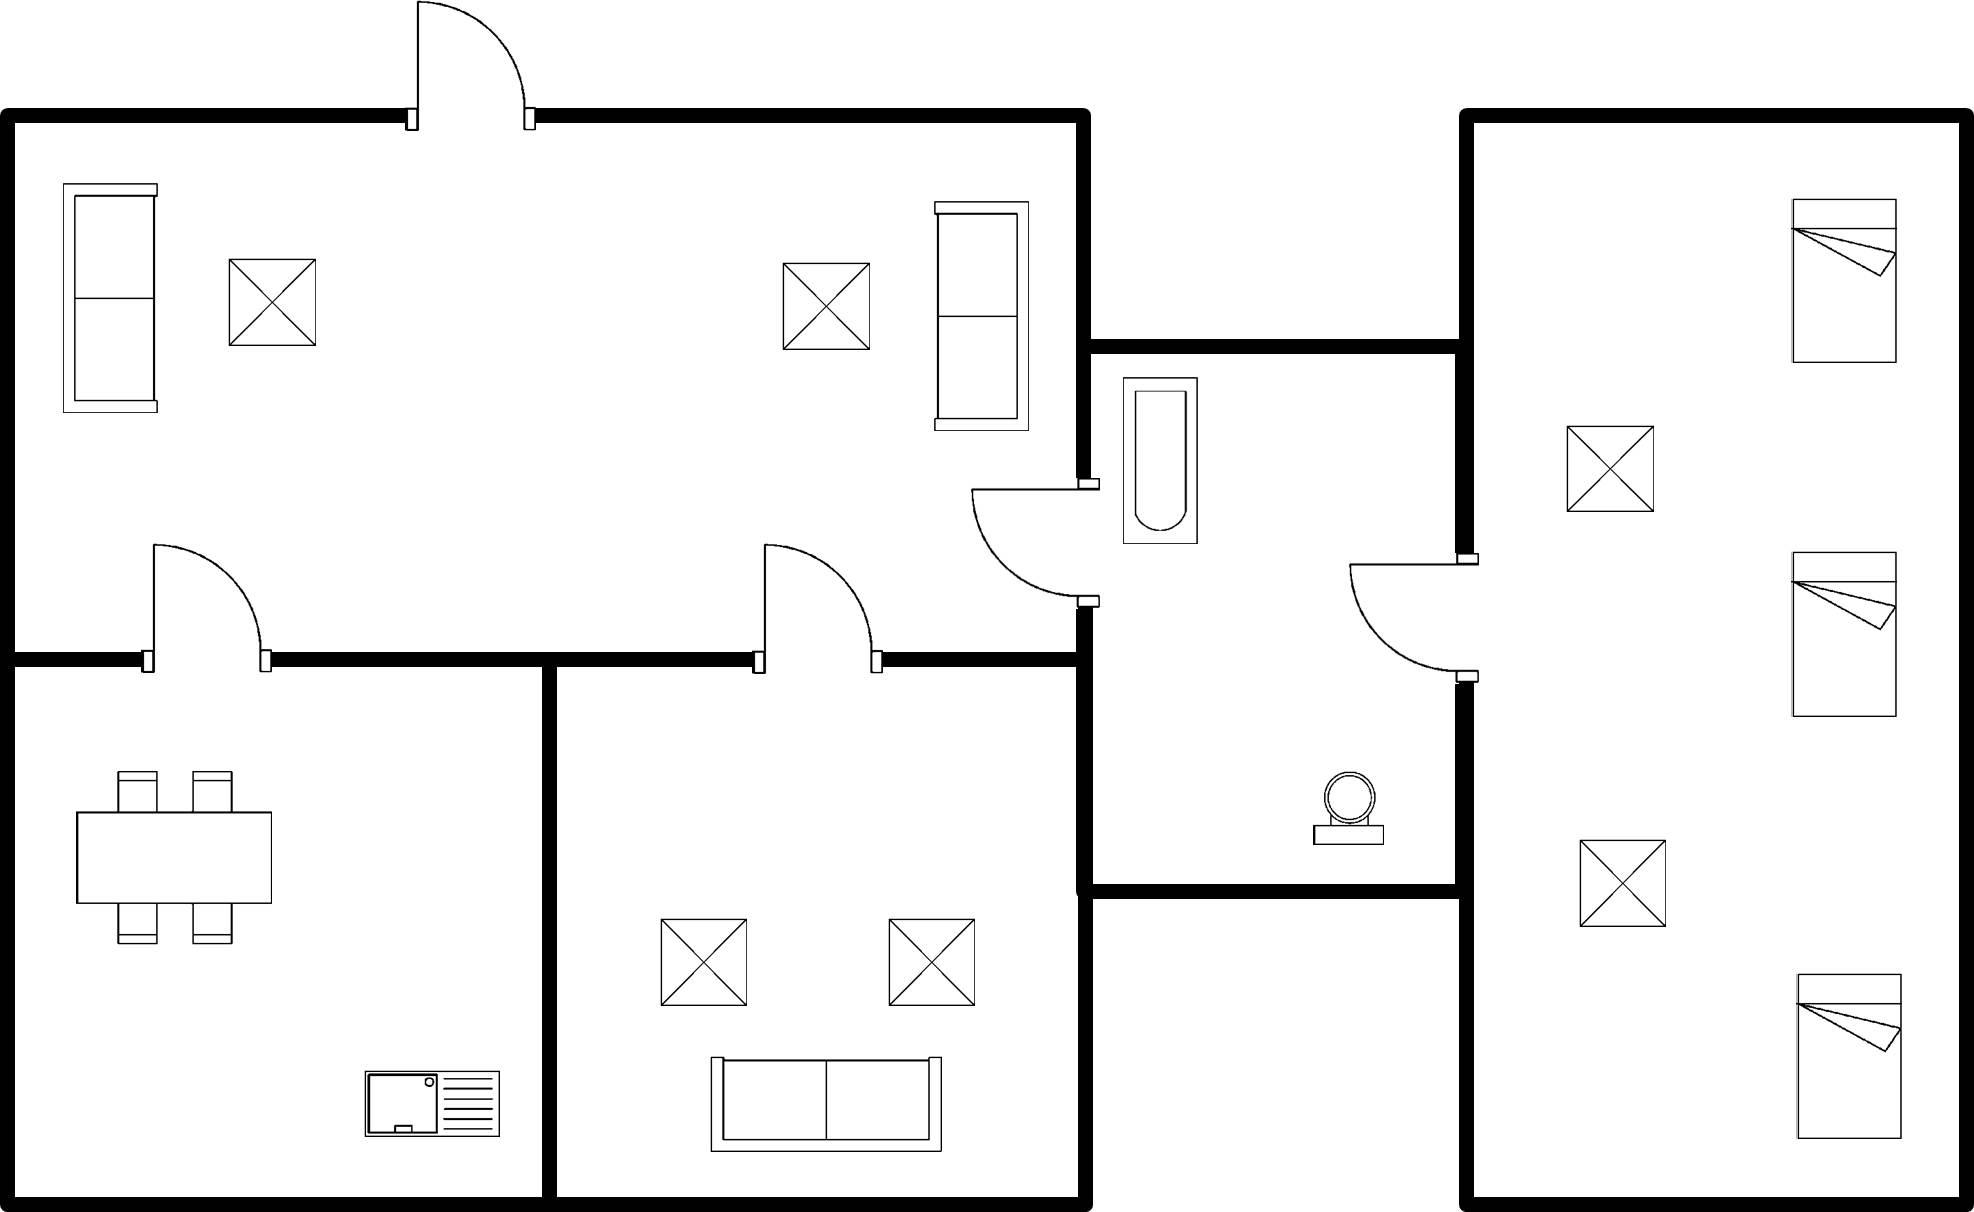bed: (1777, 540, 1911, 731), (1779, 961, 1913, 1149), (1779, 185, 1903, 378)
dining_table: (61, 757, 283, 951)
sink: (352, 1063, 510, 1147)
sofa: (45, 171, 178, 420), (698, 1044, 952, 1163), (921, 192, 1039, 443)
toilet: (1301, 760, 1396, 858)
tub: (1111, 366, 1210, 552)
